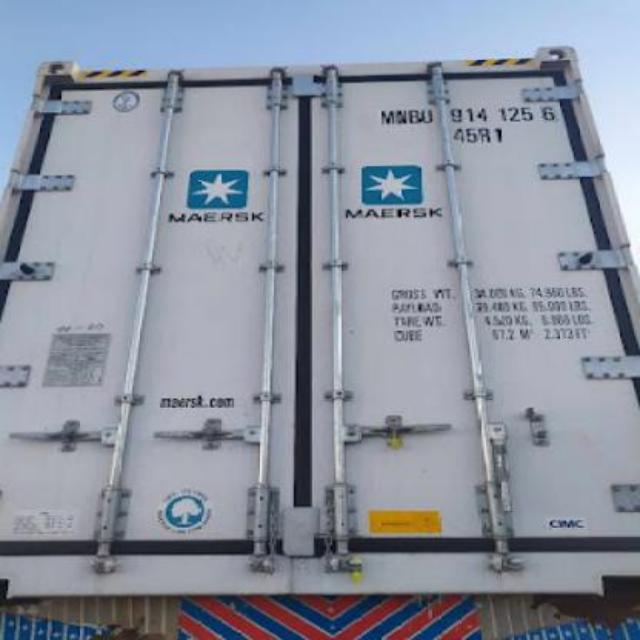1: (466, 104, 476, 126), (496, 105, 508, 123)
2: (506, 99, 522, 128)
4: (476, 105, 492, 123)
5: (522, 102, 536, 122)
6: (536, 98, 568, 124)
9: (450, 106, 466, 126)
B: (406, 105, 422, 128)
M: (376, 106, 394, 126)
N: (394, 106, 408, 124)
U: (420, 105, 438, 121)
